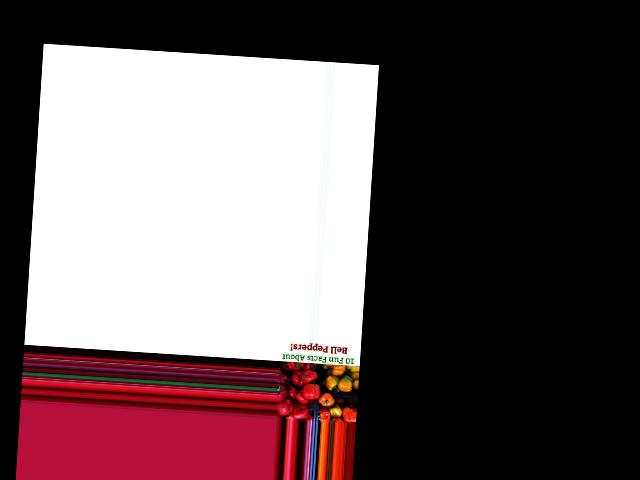bell_pepper: (286, 359, 308, 374)
